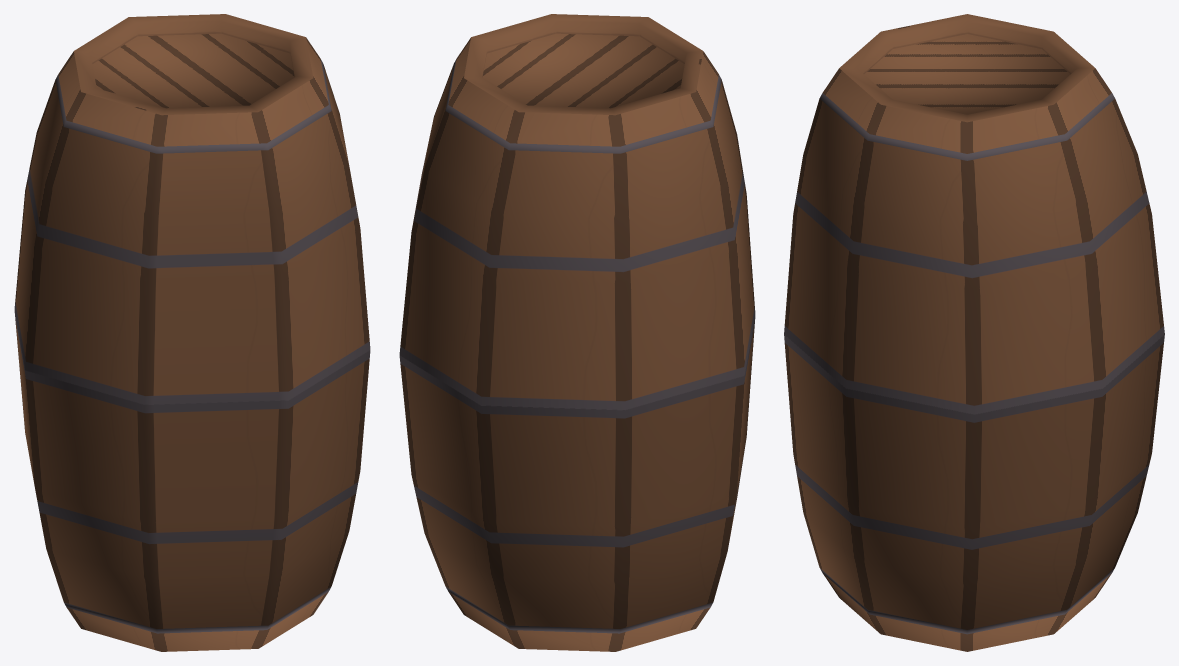
File: Barrel.fbx
3 renders of one model, left to right at view 1: azimuth 30°, elevation 25°; view 2: azimuth 150°, elevation 25°; view 3: azimuth 270°, elevation 25°, orthographic.
Visible parts, largest first — view 1: Barrel; view 2: Barrel; view 3: Barrel.
Boxes of the visible parts, x1=… form: Barrel: x1=14, y1=14, x2=370, y2=651; Barrel: x1=399, y1=14, x2=755, y2=651; Barrel: x1=784, y1=14, x2=1164, y2=651.
Size of the model in its own units: 412 by 632 by 412.
Materials: 1 (1 with a texture image).
